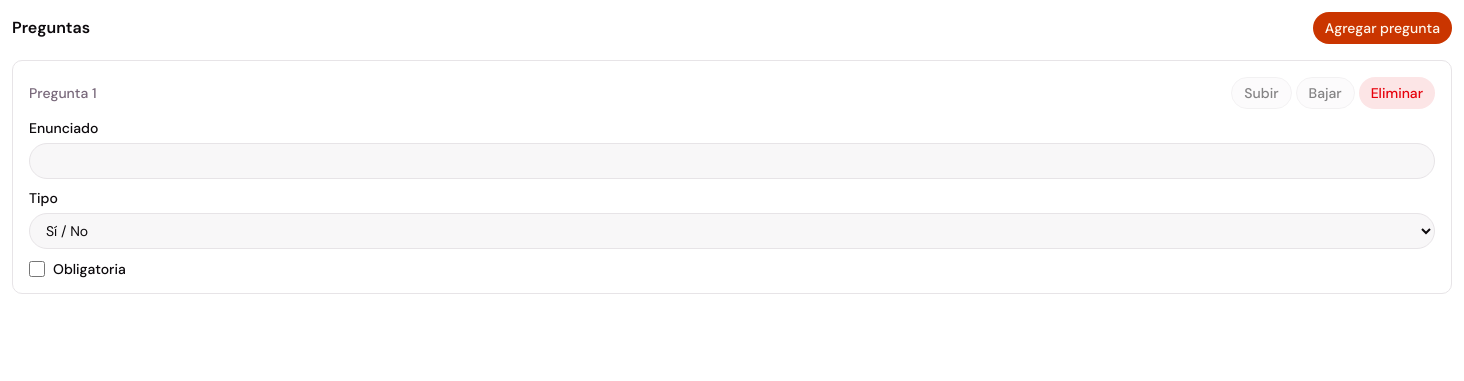
Test: QuestionBuilder — 11 configuraciones de tipo › number expone mínimo y máximo
Select "Número" in the dropdown labelled "Tipo". click: {"x": 732, "y": 231}
box: left=29, top=213, right=1435, bottom=249
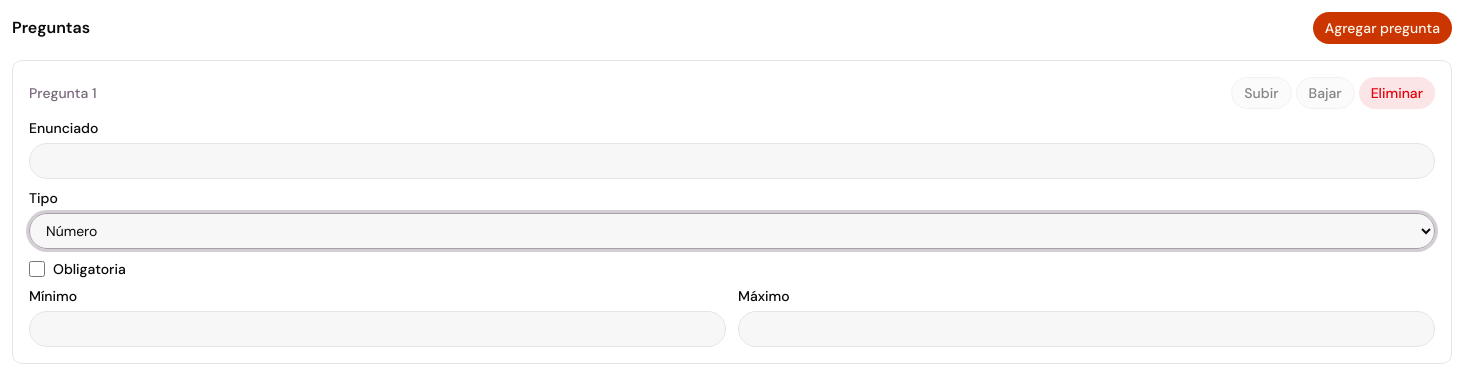
Now the number field labelled "Mínimo" is shown, box left=29, top=311, right=726, bottom=347
Now the number field labelled "Máximo" is shown, box left=738, top=311, right=1435, bottom=347
